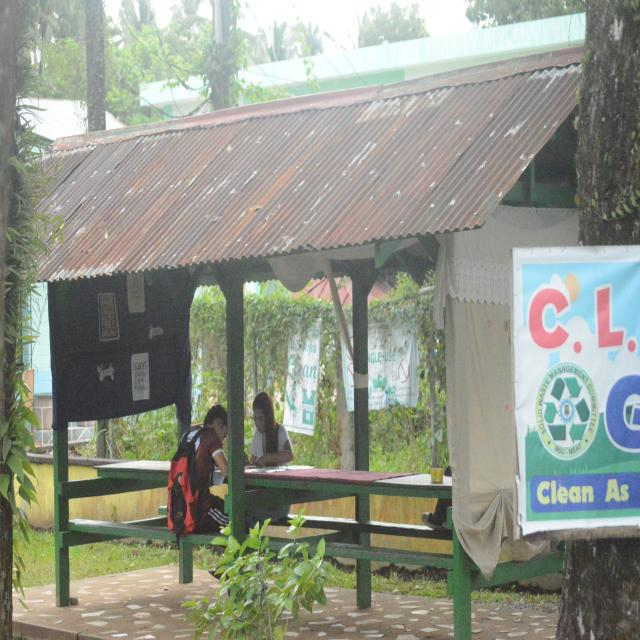person: (195, 405, 228, 532), (250, 392, 293, 467)
